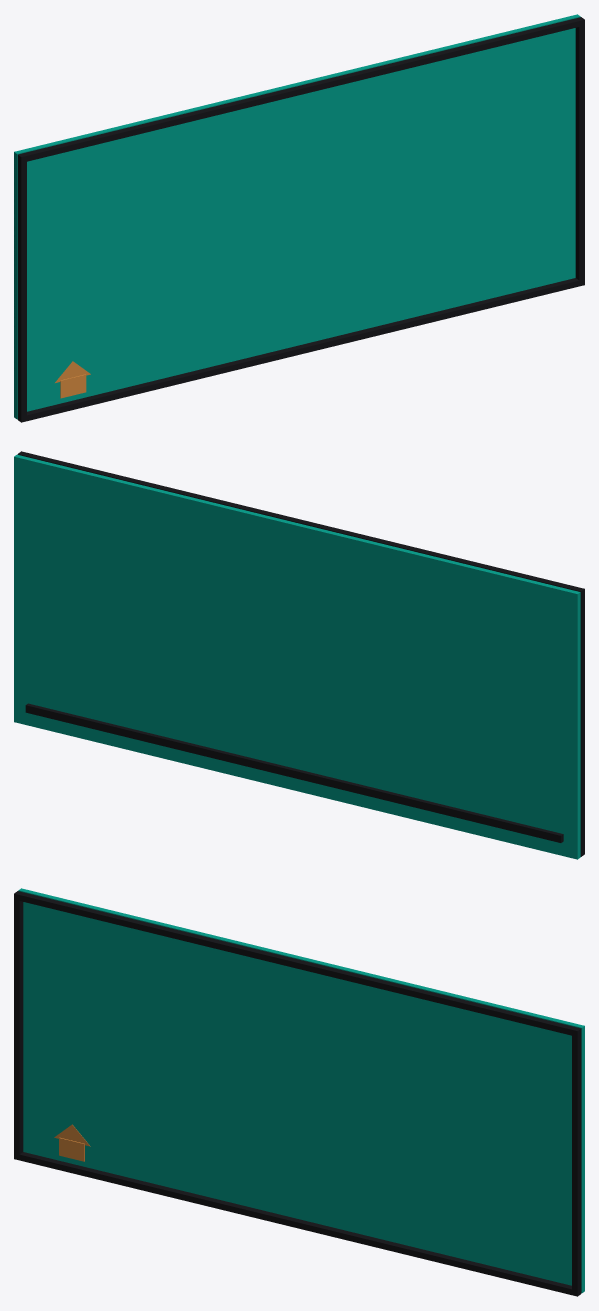
File: Chữ inox hông lổ gắn đá arylic LED.obj
The picture shows the model from 3 angles, top to bottom: view 1: azimuth 30°, elevation 25°; view 2: azimuth 150°, elevation 25°; view 3: azimuth 330°, elevation 25°; orthographic projection.
Visible parts, largest first — view 1: nen_ton_xanh_ngoc, vien_tren, vien_duoi, vien_trai, vien_phai; view 2: nen_ton_xanh_ngoc, thanh_ngang_sau, vien_tren, vien_trai; view 3: nen_ton_xanh_ngoc, vien_tren, vien_duoi, vien_phai, vien_trai.
Part boxes in pixels (bbox=[...]): nen_ton_xanh_ngoc: bbox=[14, 14, 580, 419]; vien_tren: bbox=[17, 17, 584, 162]; vien_duoi: bbox=[17, 278, 584, 422]; vien_trai: bbox=[17, 153, 26, 421]; vien_phai: bbox=[575, 17, 584, 284]; nen_ton_xanh_ngoc: bbox=[14, 454, 580, 859]; thanh_ngang_sau: bbox=[25, 703, 563, 842]; vien_tren: bbox=[18, 451, 584, 596]; vien_trai: bbox=[577, 588, 584, 856]; nen_ton_xanh_ngoc: bbox=[18, 888, 584, 1293]; vien_tren: bbox=[14, 891, 581, 1036]; vien_duoi: bbox=[14, 1152, 581, 1296]; vien_phai: bbox=[572, 1027, 581, 1296]; vien_trai: bbox=[14, 891, 23, 1160].
Bounding box in the file's own units: 4 × 1.8 × 0.12.
